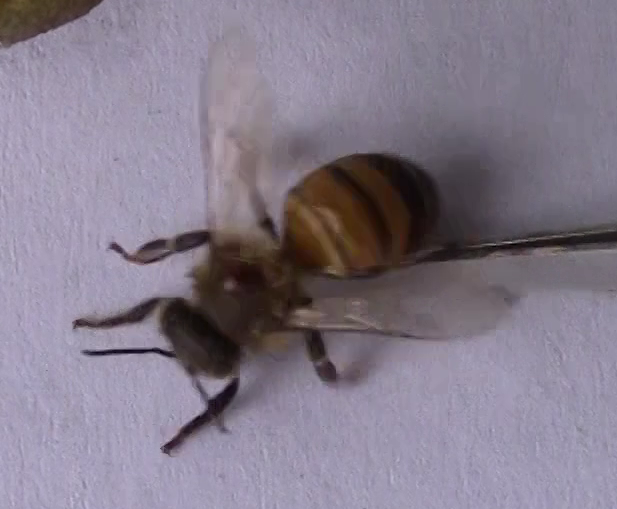Varroa destructor: (216, 263, 267, 299)
